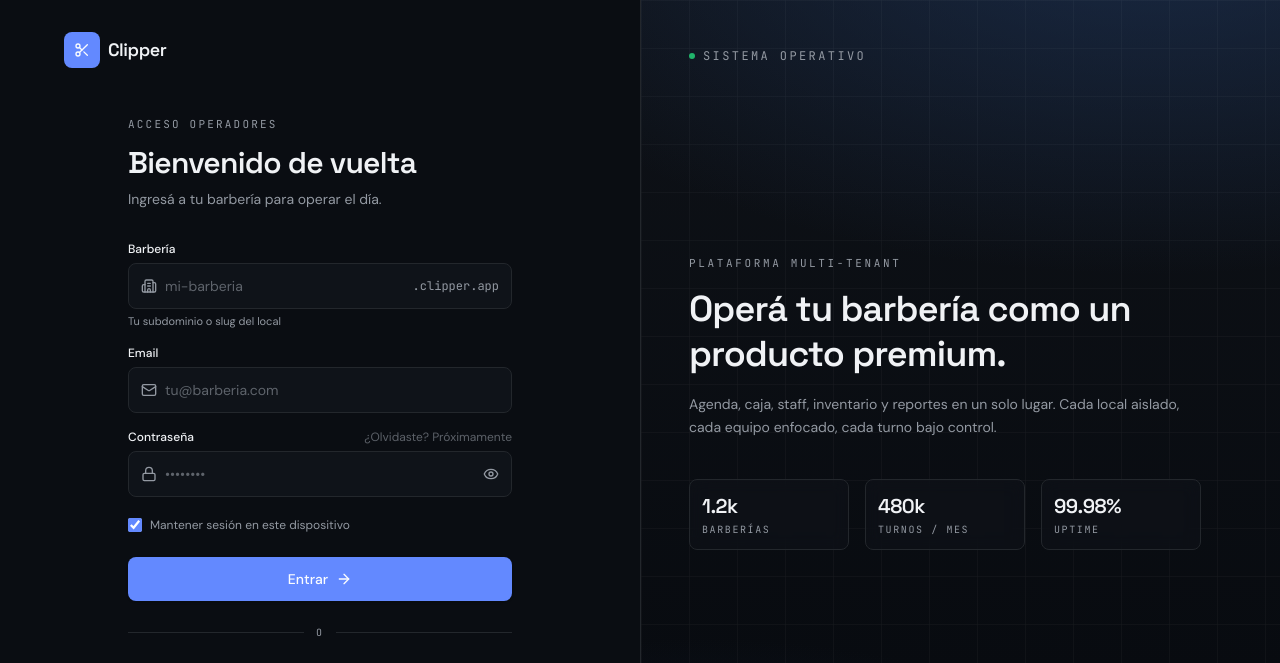
Scenario: LoginPage auth wiring › shows the API failure message without storing auth
In the field with placeholder "mi-barberia": coordinates (271, 286) [129, 264, 413, 308], type "niche-72"
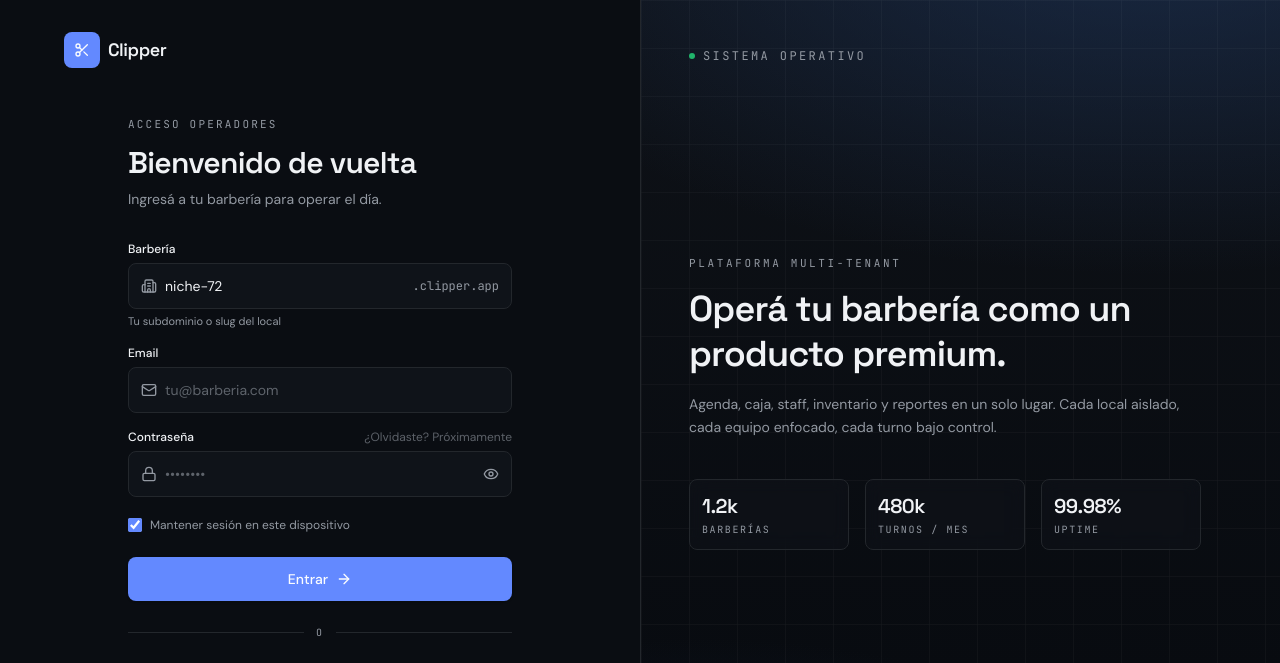
In the field with placeholder "tu@barberia.com": coordinates (320, 390) [129, 368, 511, 412], type "admin@clipper.test"
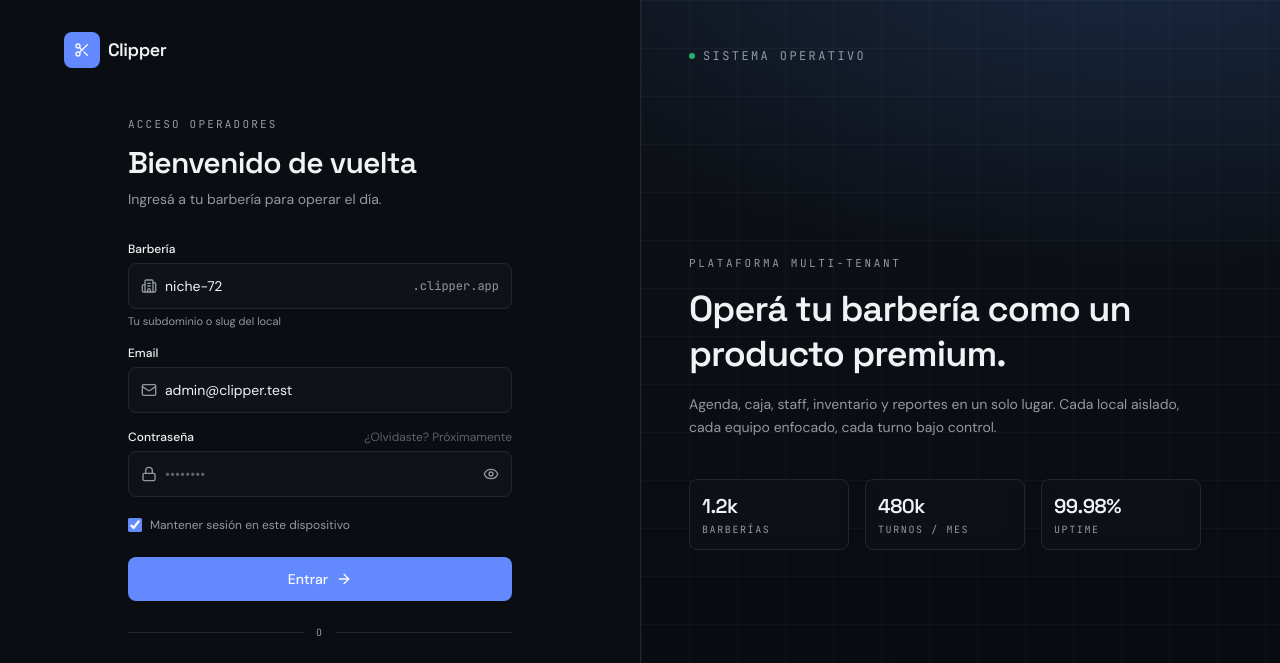
In the password field with placeholder "••••••••": coordinates (306, 474) [129, 452, 483, 496], type "bad-password"
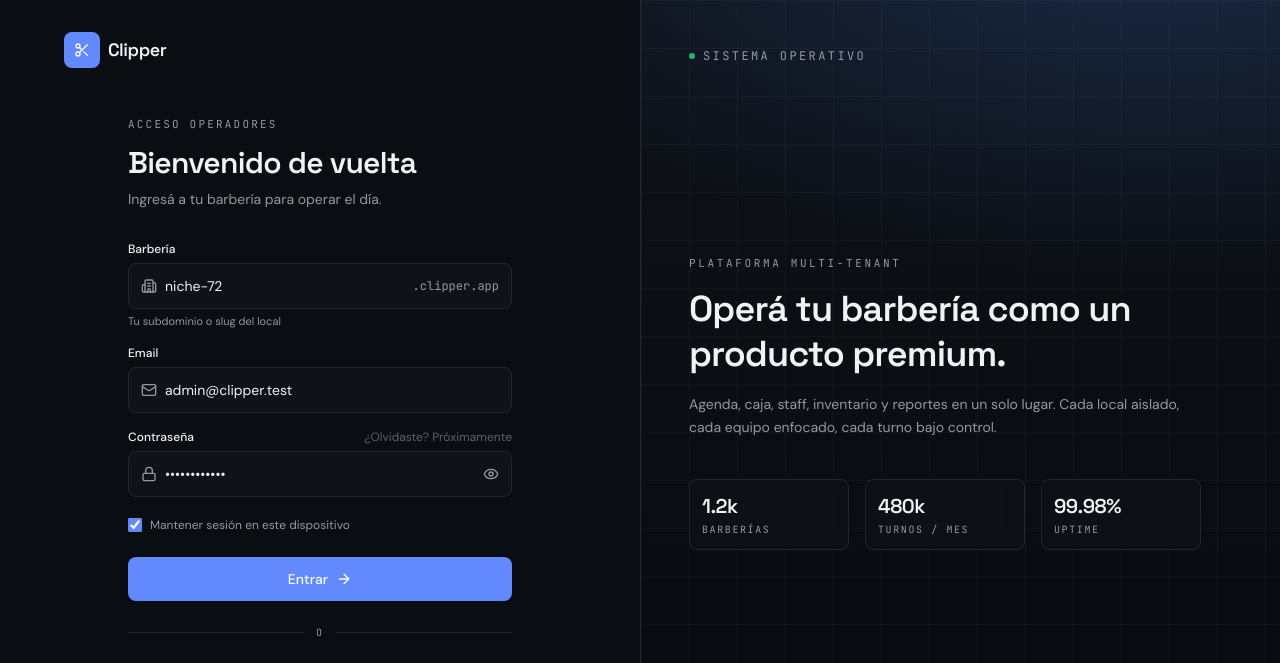
Click the button "Entrar": coordinates (320, 579) [128, 557, 512, 601]
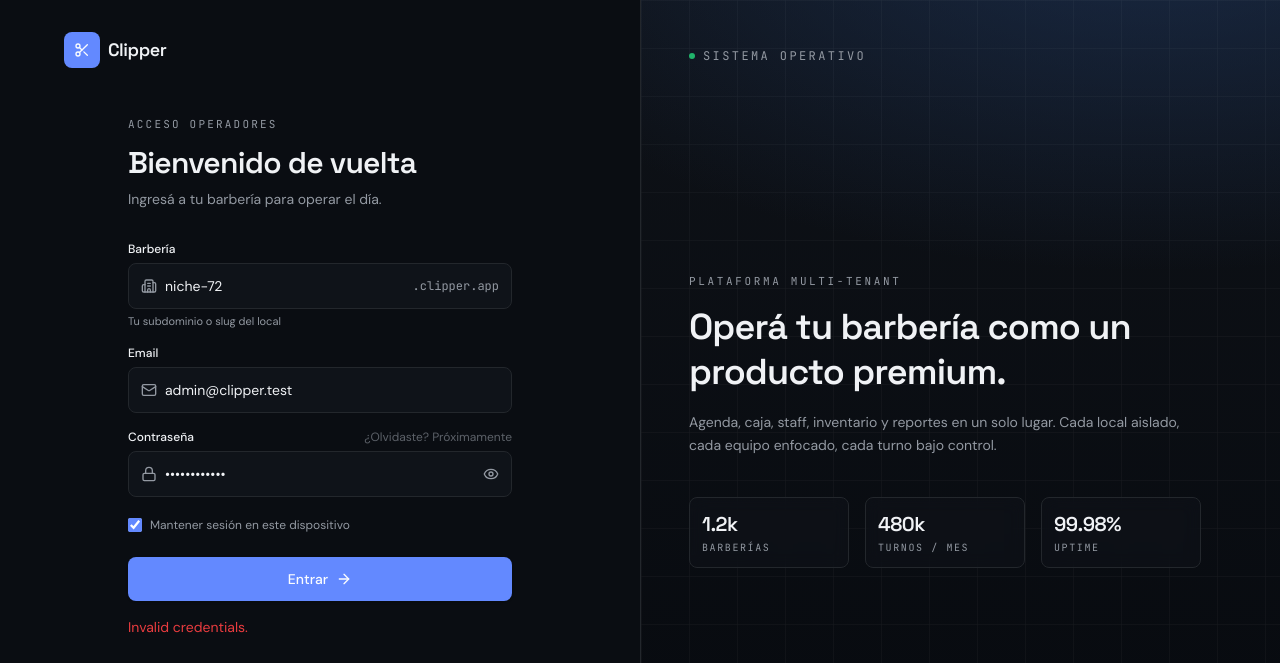
Expected: the message reads "Invalid credentials.", [128, 618, 248, 636]
